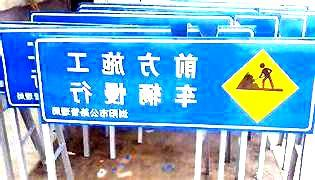sign: (38, 39, 314, 131)
